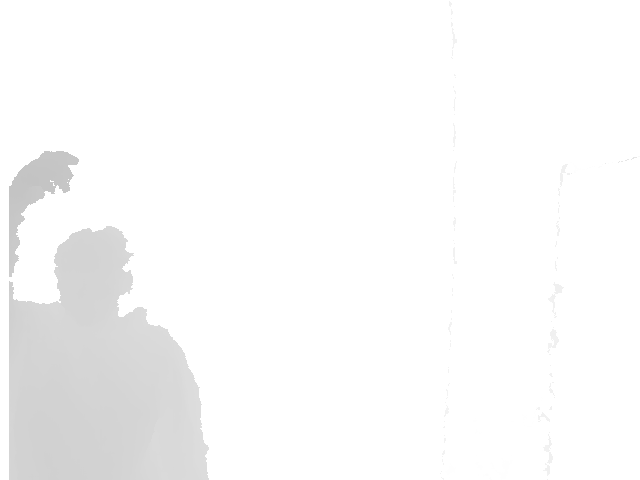hand: (8, 150, 81, 206)
head: (53, 226, 135, 316)
person: (8, 150, 210, 480)
